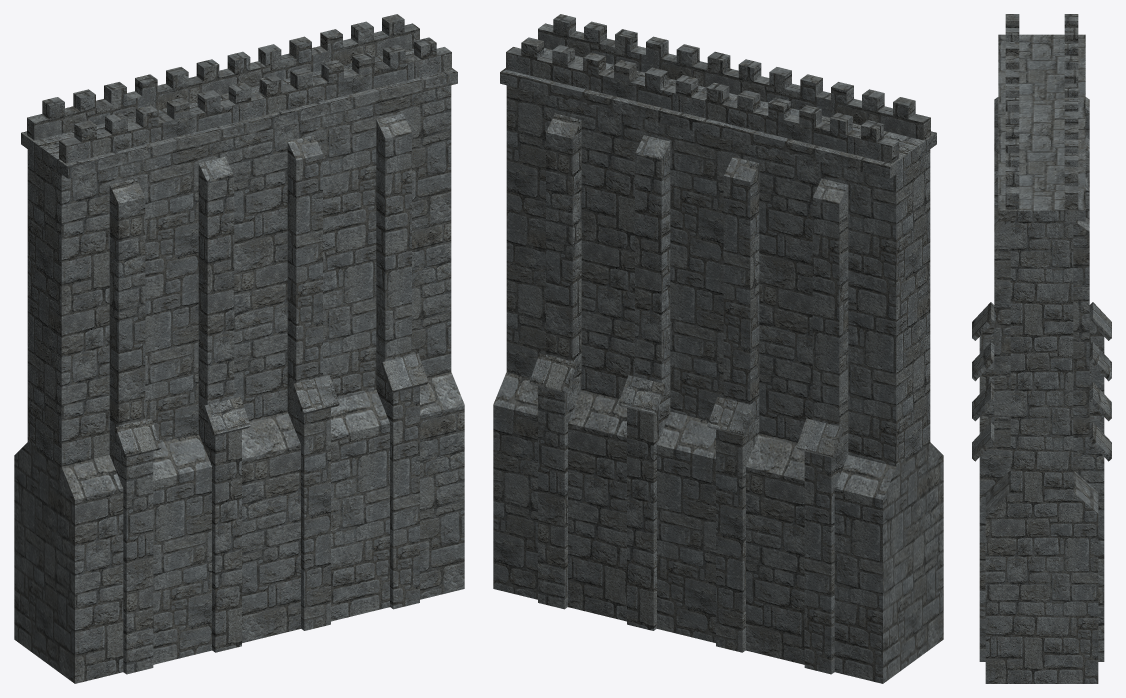
File: s_xsc_jianzhu24_f.fbx
3 renders of one model, left to right at view 1: azimuth 30°, elevation 25°; view 2: azimuth 150°, elevation 25°; view 3: azimuth 270°, elevation 25°, orthographic. The views are drawn at different scales.
Visible parts, largest first — view 1: polySurface32; view 2: polySurface32; view 3: polySurface32.
Part boxes in pixels (x1,y1,x2,y2): polySurface32: [14, 14, 464, 683]; polySurface32: [493, 14, 943, 683]; polySurface32: [972, 14, 1111, 683].
Size of the model in its own units: 14.67 by 19.51 by 4.93.
